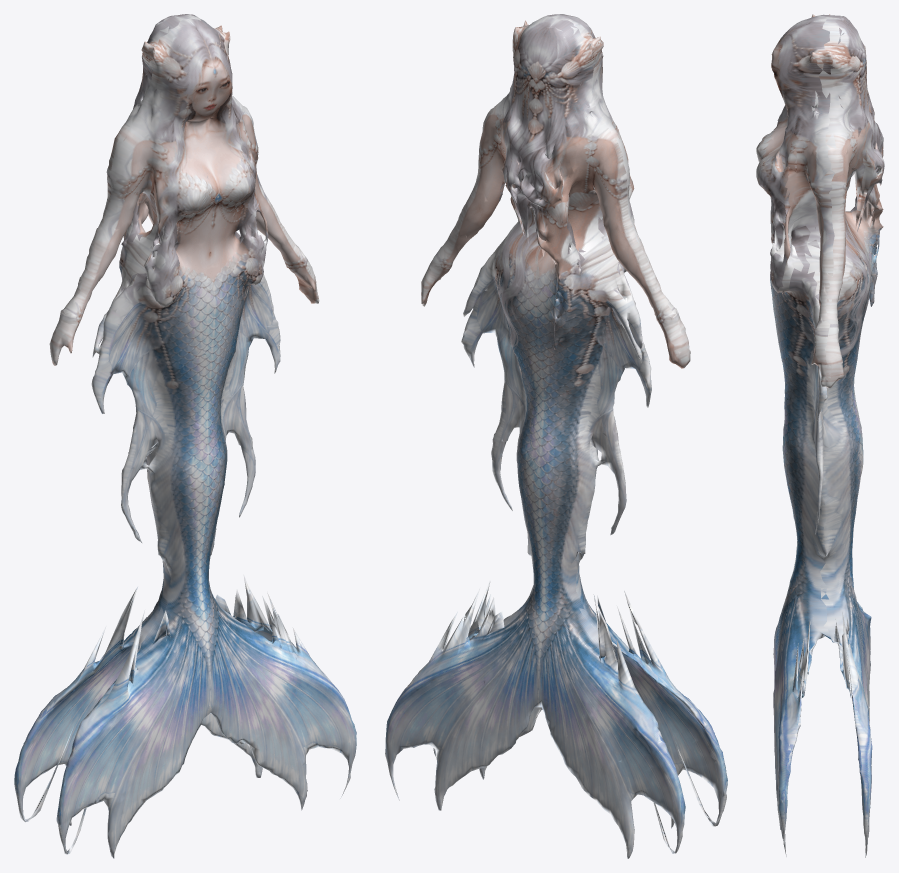
The model's file is mermaid3d_v1.glb.
3 views of the same model, side by side, from view 1: azimuth 30°, elevation 25°; view 2: azimuth 150°, elevation 25°; view 3: azimuth 270°, elevation 25° (orthographic). The views are drawn at different scales.
Parts seen in each view (by area): view 1: geometry_0; view 2: geometry_0; view 3: geometry_0.
Part boxes in pixels (x1,y1,x2,y2): geometry_0: [14, 14, 356, 858]; geometry_0: [385, 14, 727, 858]; geometry_0: [756, 14, 884, 857].
Bounding box in the file's own units: 0.7704 × 1.98 × 0.2959.
Materials: 1 (1 with a texture image).
